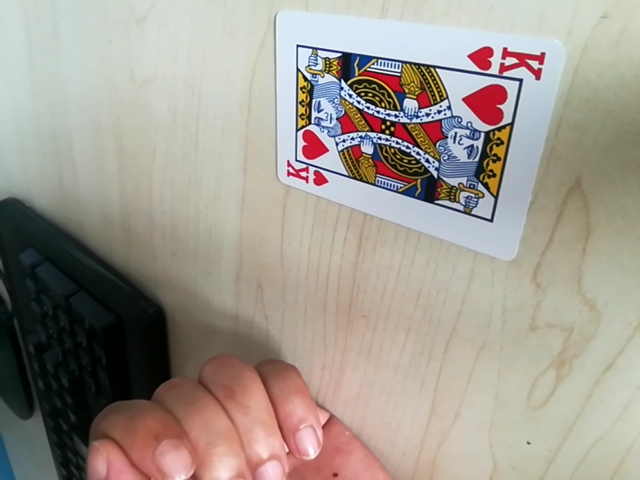hx k: (466, 40, 550, 81), (282, 163, 330, 189)
